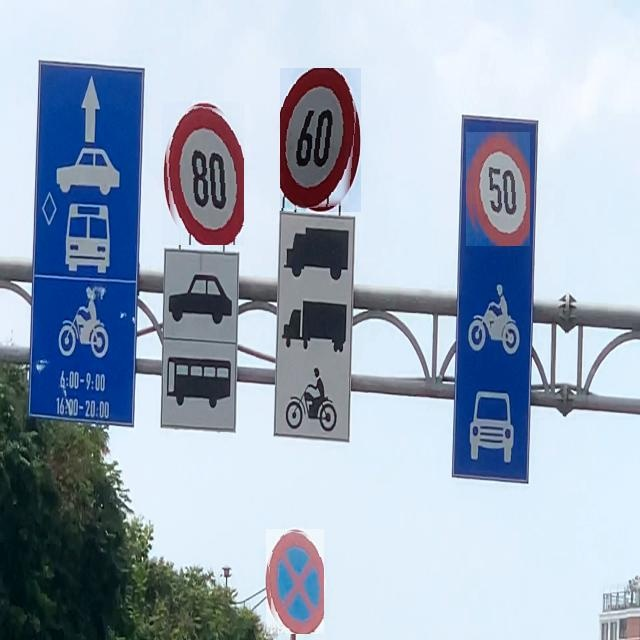bien_hieu_lenh: (162, 102, 244, 245), (280, 68, 361, 212), (466, 132, 530, 246), (266, 529, 324, 634)
